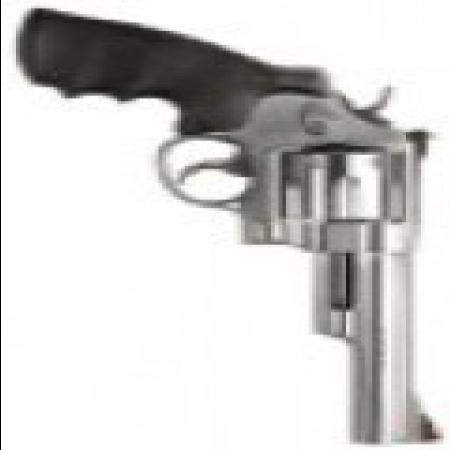Pistol: (23, 11, 442, 447)
